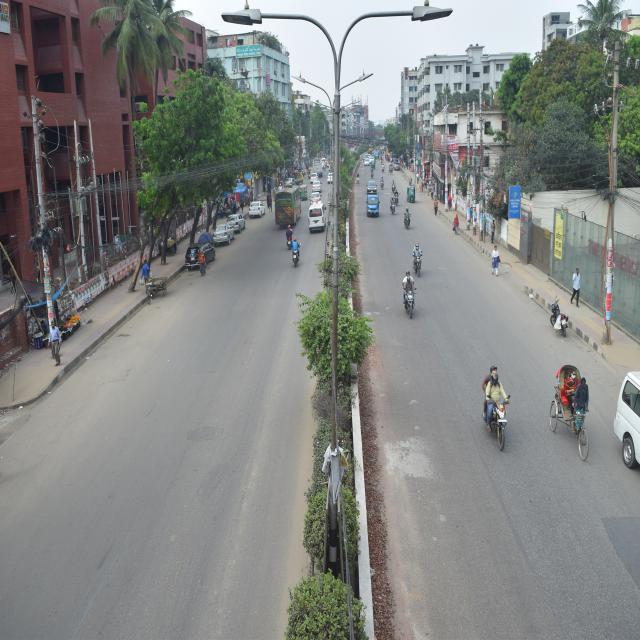bus: (272, 180, 301, 232)
car: (212, 217, 232, 248), (225, 205, 248, 231), (250, 199, 268, 218), (309, 177, 326, 190)
microbus: (603, 341, 640, 517), (179, 241, 216, 280), (307, 202, 326, 234)
motorbike: (477, 388, 518, 453), (550, 290, 569, 347), (396, 286, 421, 323), (411, 256, 432, 282), (289, 242, 307, 272), (400, 218, 414, 235), (386, 201, 397, 217), (285, 230, 292, 248)
pickup-van: (363, 190, 384, 225)
